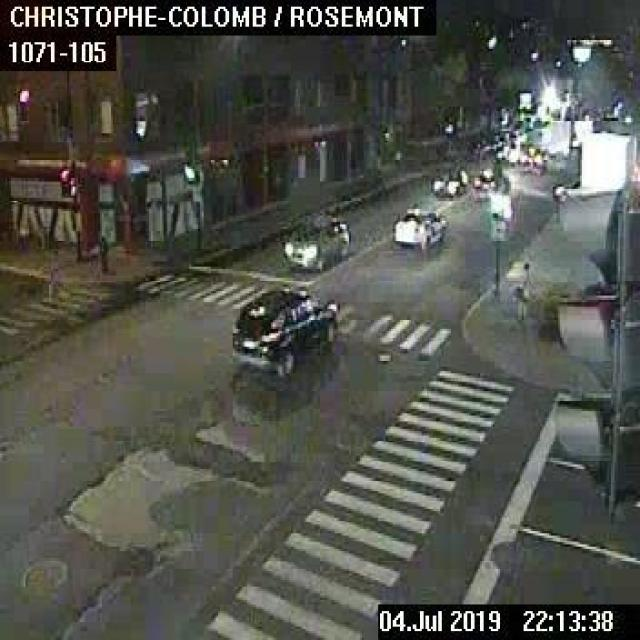pedestrian: (44, 249, 65, 301), (512, 261, 530, 319), (98, 235, 106, 270)
vehicle: (231, 286, 336, 376), (282, 210, 350, 270), (391, 206, 446, 248), (431, 166, 466, 196), (472, 169, 508, 198), (520, 146, 545, 173)
